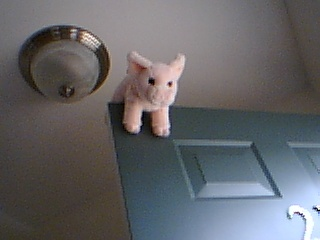piggy: (105, 49, 188, 140)
